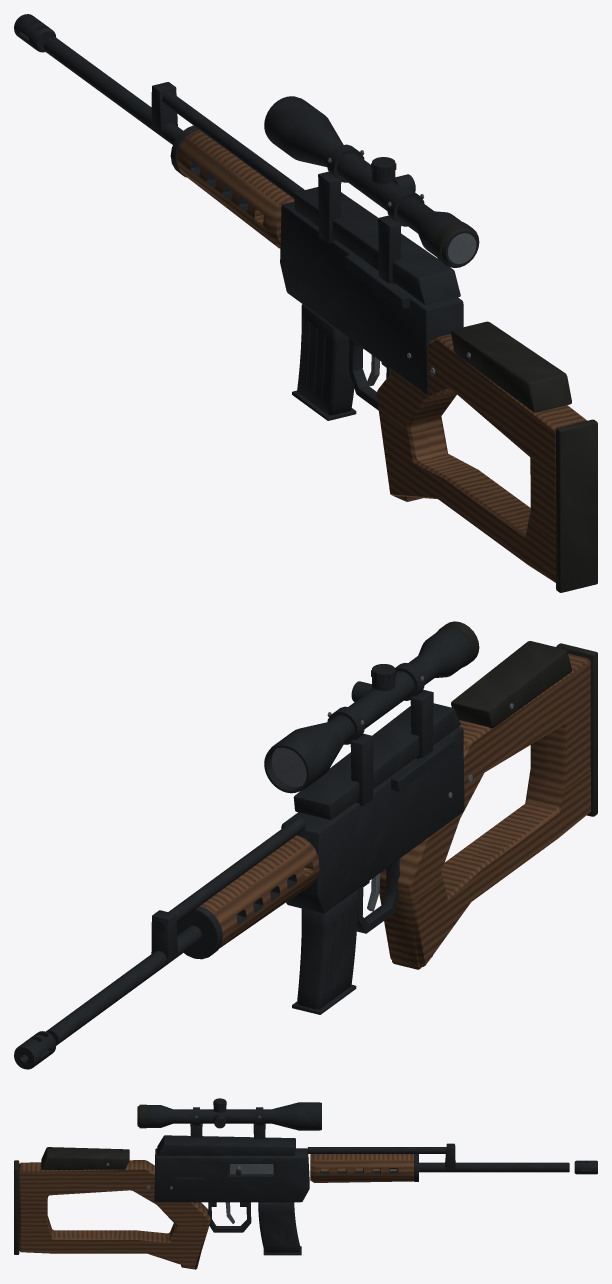
Rendered from marksman_realistic.glb.
3 renders of one model, top to bottom at view 1: azimuth 30°, elevation 25°; view 2: azimuth 150°, elevation 25°; view 3: azimuth 270°, elevation 25°, orthographic. The views are drawn at different scales.
Visible parts, largest first — view 1: Walnut thumbhole stock, DMR milled receiver, Scope optical housing, DMR recoil pad, Walnut ventilated handguard, DMR receiver cover, Raised cheek rest, Ten round DMR magazine, DMR barrel, DMR gas tube, Scope support.001, Scope support (+4 smaller); view 2: Walnut thumbhole stock, DMR milled receiver, Scope optical housing, Walnut ventilated handguard, DMR receiver cover, Raised cheek rest, Ten round DMR magazine, DMR barrel, DMR gas tube, DMR recoil pad, Handguard retaining band, Trigger guard (+8 smaller); view 3: Walnut thumbhole stock, DMR milled receiver, Scope optical housing, Walnut ventilated handguard, DMR receiver cover, Raised cheek rest, Ten round DMR magazine, DMR barrel, DMR gas tube, DMR recoil pad, Trigger guard, DMR bolt carrier (+2 smaller).
Boxes of the visible parts, left/top/right/bottom form: Walnut thumbhole stock: left=376, top=334, right=587, bottom=582; DMR milled receiver: left=280, top=201, right=463, bottom=394; Scope optical housing: left=264, top=96, right=478, bottom=266; DMR recoil pad: left=556, top=419, right=597, bottom=592; Walnut ventilated handguard: left=176, top=129, right=294, bottom=248; DMR receiver cover: left=293, top=187, right=460, bottom=304; Raised cheek rest: left=451, top=321, right=571, bottom=412; Ten round DMR magazine: left=297, top=304, right=354, bottom=415; DMR barrel: left=44, top=37, right=183, bottom=144; DMR gas tube: left=162, top=92, right=304, bottom=198; Scope support.001: left=318, top=171, right=341, bottom=243; Scope support: left=378, top=215, right=401, bottom=284; Walnut thumbhole stock: left=379, top=653, right=590, bottom=966; DMR milled receiver: left=281, top=727, right=464, bottom=913; Scope optical housing: left=264, top=627, right=471, bottom=793; Walnut ventilated handguard: left=200, top=835, right=319, bottom=948; DMR receiver cover: left=293, top=703, right=460, bottom=819; Raised cheek rest: left=451, top=641, right=571, bottom=728; Ten round DMR magazine: left=297, top=889, right=358, bottom=1009; DMR barrel: left=46, top=925, right=201, bottom=1045; DMR gas tube: left=154, top=818, right=305, bottom=932; DMR recoil pad: left=556, top=643, right=597, bottom=816; Handguard retaining band: left=176, top=906, right=222, bottom=959; Trigger guard: left=356, top=859, right=399, bottom=933; Walnut thumbhole stock: left=19, top=1160, right=210, bottom=1268; DMR milled receiver: left=154, top=1148, right=309, bottom=1202; Scope optical housing: left=137, top=1102, right=321, bottom=1130; Walnut ventilated handguard: left=310, top=1154, right=413, bottom=1182; DMR receiver cover: left=157, top=1135, right=295, bottom=1155; Raised cheek rest: left=41, top=1147, right=129, bottom=1169; Ten round DMR magazine: left=258, top=1202, right=300, bottom=1252; DMR barrel: left=419, top=1162, right=569, bottom=1172; DMR gas tube: left=307, top=1147, right=446, bottom=1153; DMR recoil pad: left=14, top=1160, right=19, bottom=1254; Trigger guard: left=208, top=1202, right=251, bottom=1232; DMR bolt carrier: left=230, top=1164, right=273, bottom=1174.
Size of the model in its own units: 0.09 by 0.3505 by 1.12.
5 materials, 5 textured.
